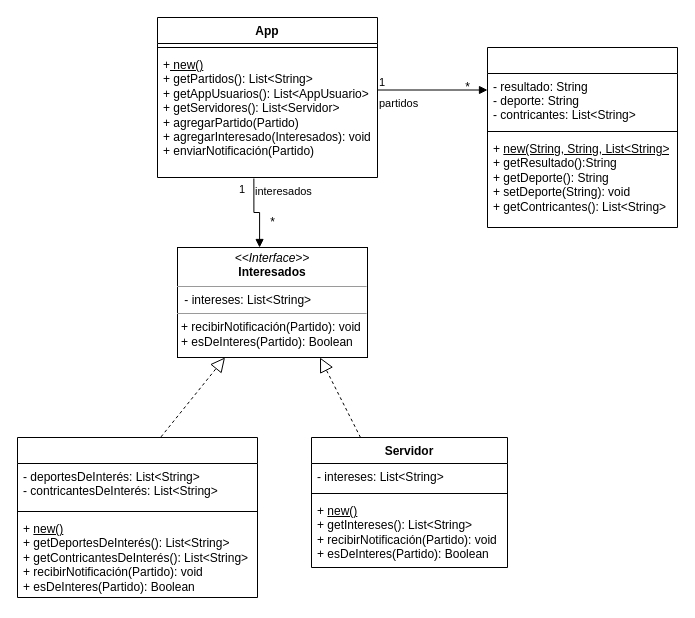
The diagram is 695 pixels wide and 618 high, and some of its shapes have lost their labels. The box of each missing label's shape, as (x1, y1, x2, y2) in pixels:
AppUsuario: (16, 436, 258, 598)
Partido: (486, 46, 678, 228)
